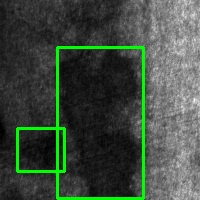patches: (57, 47, 143, 198), (17, 128, 64, 171)
